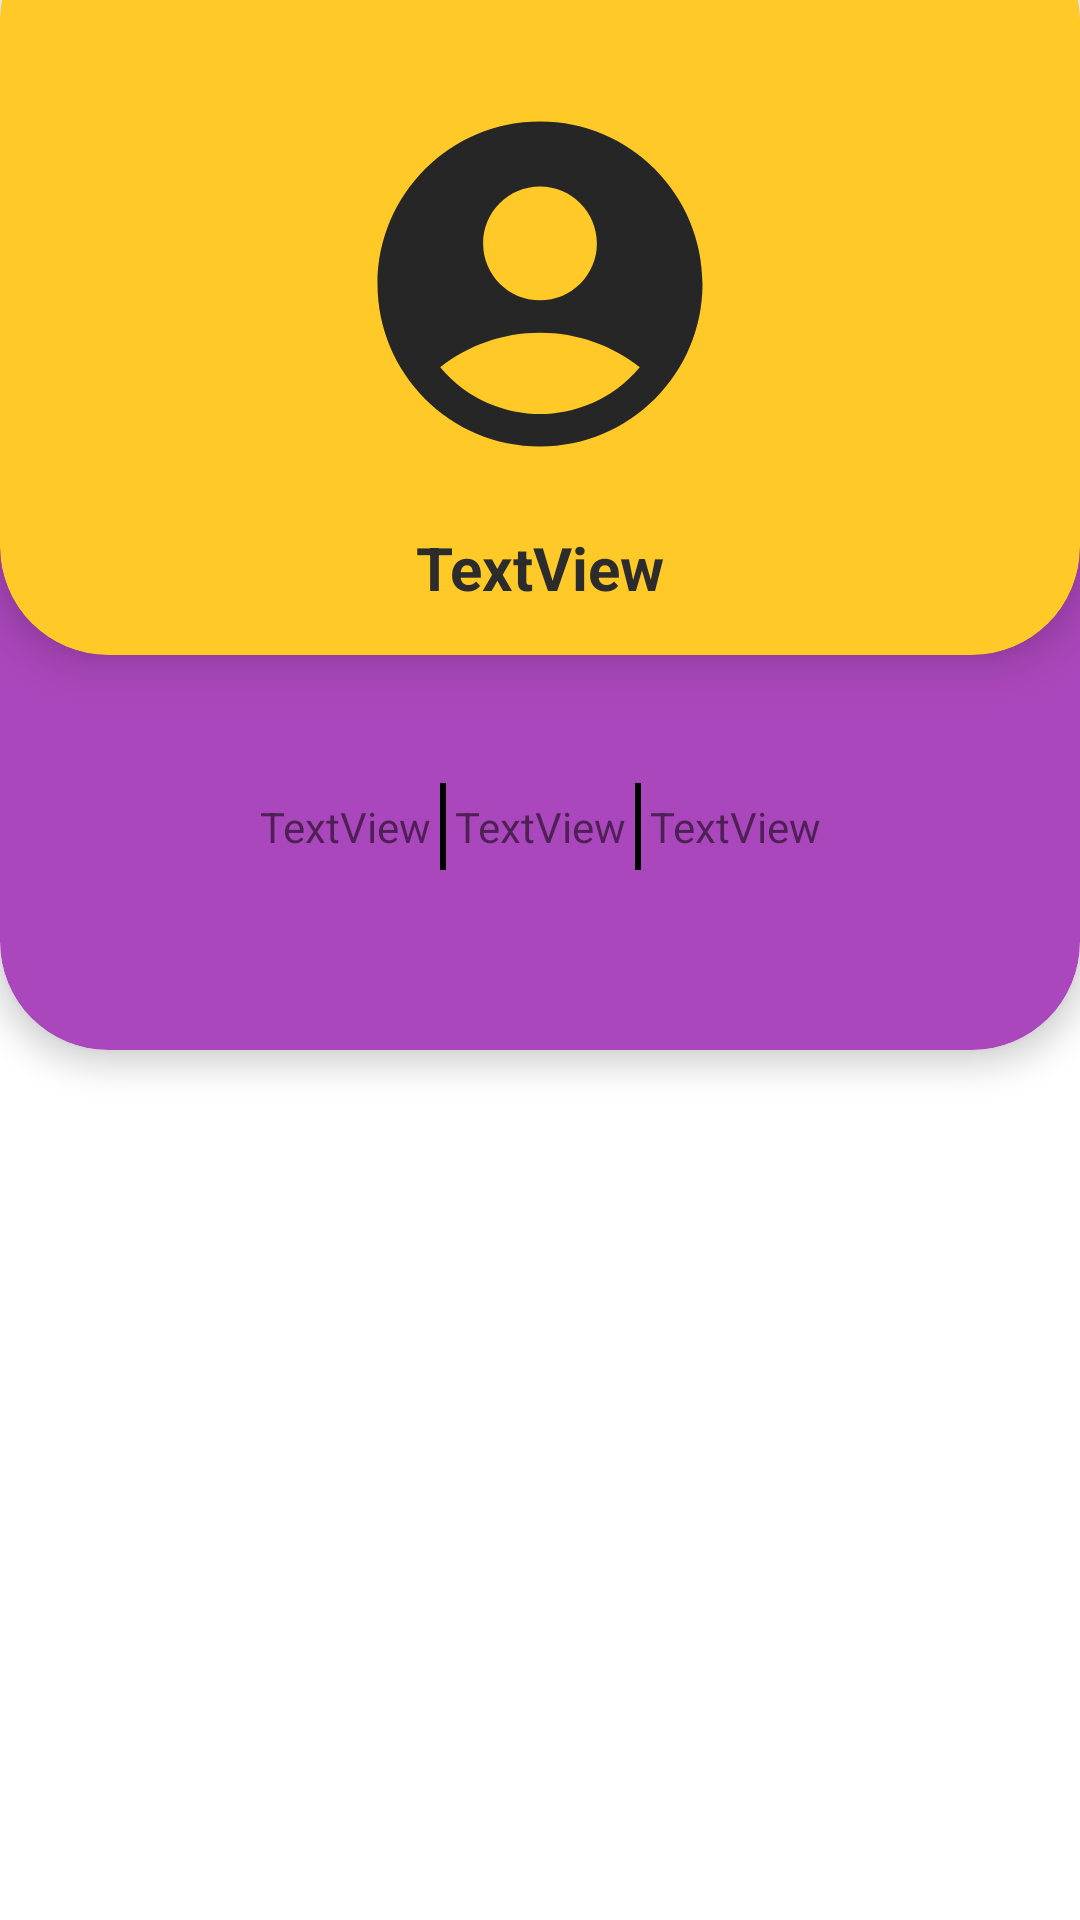

Icons on this 1080*1920 Android screen, each with its box as [left=x1, top=y1, right=x2, bottom=y2]:
account circle: [left=377, top=121, right=703, bottom=447]
